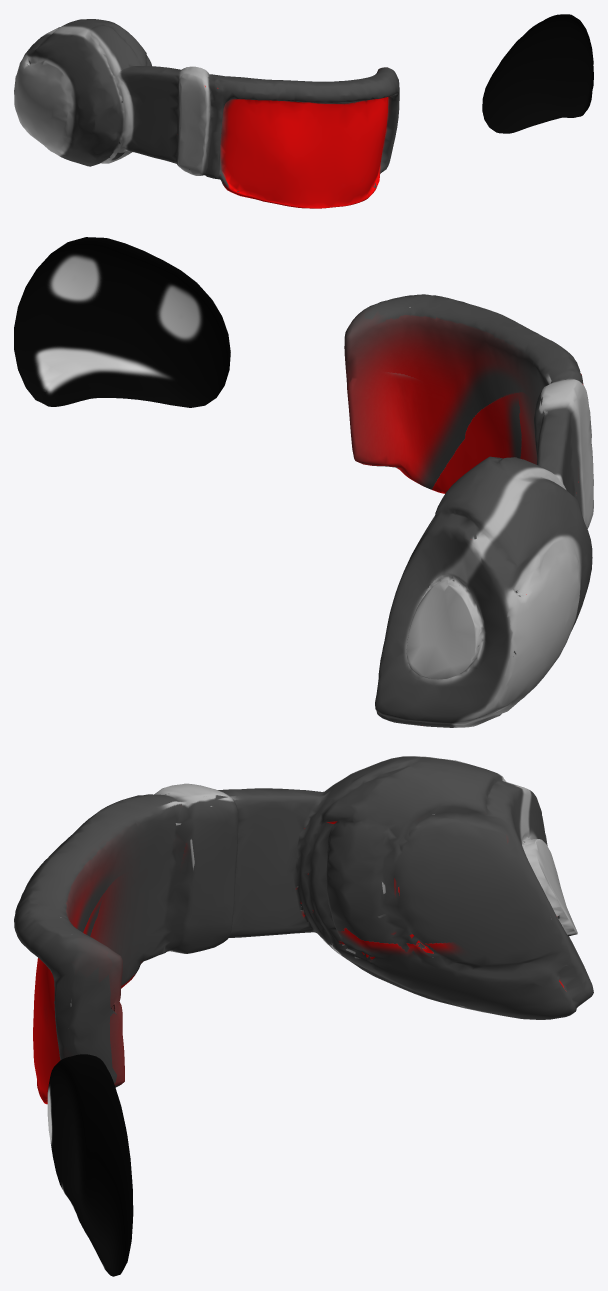
The model's file is Scanner Red.glb.
3 views of the same model, one above another, from view 1: azimuth 30°, elevation 25°; view 2: azimuth 150°, elevation 25°; view 3: azimuth 270°, elevation 25° (orthographic). The views are drawn at different scales.
Parts seen in each view (by area): view 1: Sphere.002; view 2: Sphere.002; view 3: Sphere.002.
Part boxes in pixels (box(x1,y1,x2,y2)): Sphere.002: box(14, 14, 593, 208); Sphere.002: box(14, 237, 593, 727); Sphere.002: box(14, 756, 593, 1276).
Bounding box in the file's own units: 0.5042 × 0.1554 × 0.3325.
Materials: 2 (2 with a texture image).
